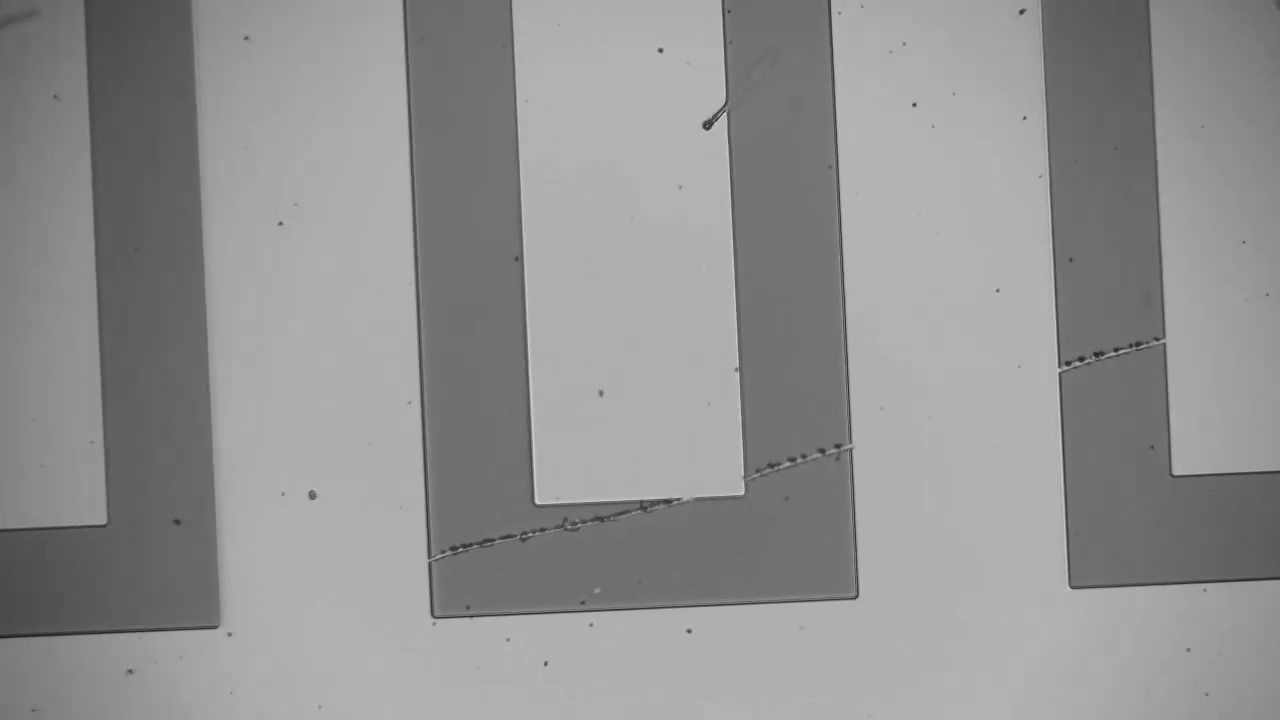scratch: (425, 437, 852, 560), (1064, 333, 1165, 362)
